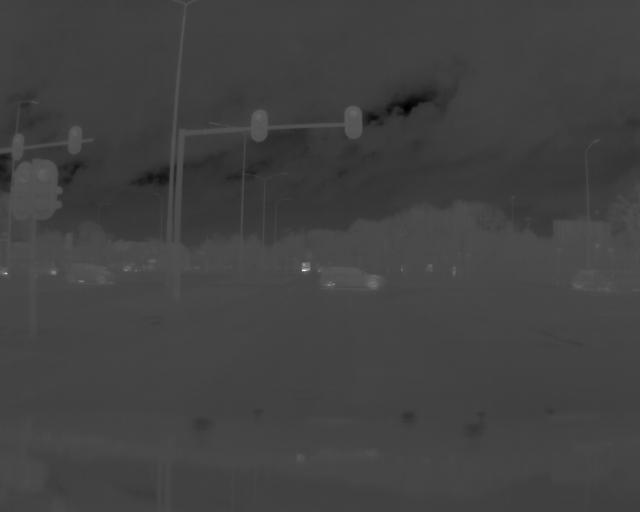car: (313, 261, 386, 294), (66, 256, 117, 288), (302, 262, 312, 271)
